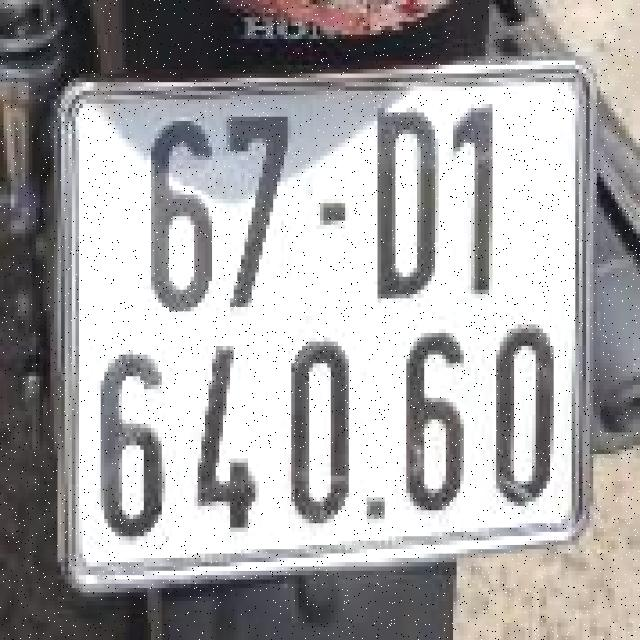0: (280, 324, 360, 536), (485, 310, 568, 512)
1: (444, 100, 530, 312)
4: (184, 339, 274, 552)
6: (72, 335, 180, 556), (131, 108, 218, 333), (392, 309, 478, 521)
7: (221, 82, 297, 320)
D: (361, 93, 448, 313)
